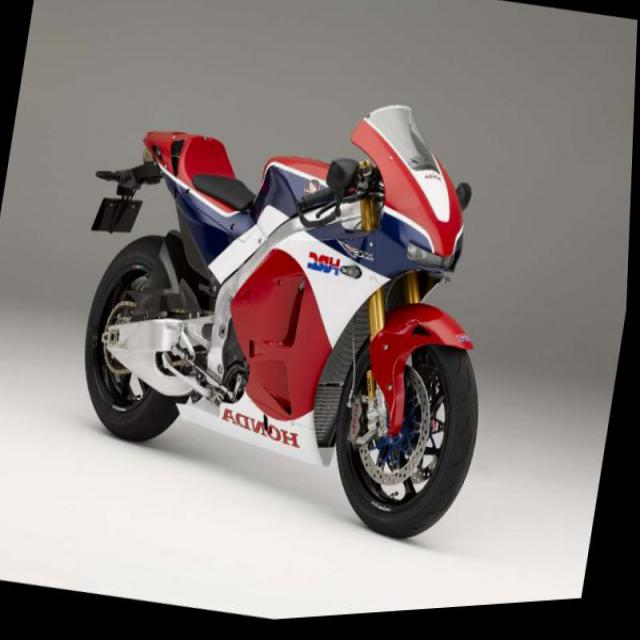HRC RCV 213: (60, 42, 532, 579)
